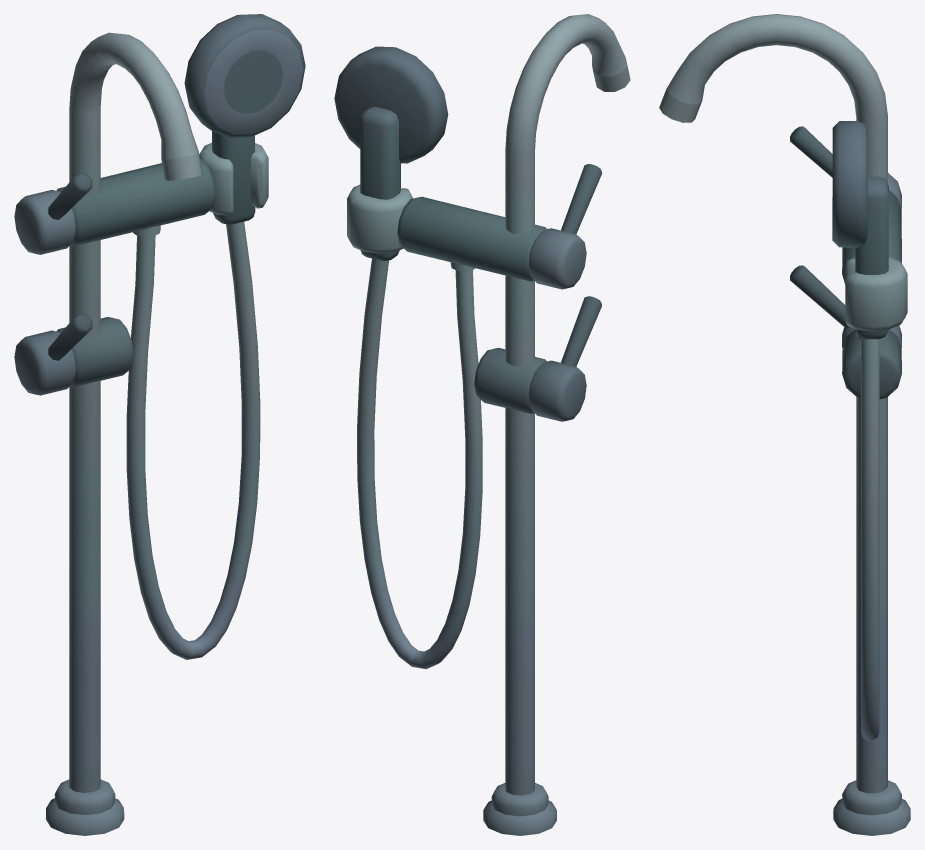
Rendered from Mixer_13.glb.
3 views of the same model, side by side, from view 1: azimuth 30°, elevation 25°; view 2: azimuth 150°, elevation 25°; view 3: azimuth 270°, elevation 25° (orthographic). The views are drawn at different scales.
Parts seen in each view (by area): view 1: Mixer_13; view 2: Mixer_13; view 3: Mixer_13.
Part boxes in pixels (bbox=[...]): Mixer_13: bbox=[14, 14, 305, 835]; Mixer_13: bbox=[334, 14, 630, 835]; Mixer_13: bbox=[659, 14, 910, 835].
Size of the model in its own units: 0.415 by 1.23 by 0.3488.
Materials: 1 (1 with a texture image).
